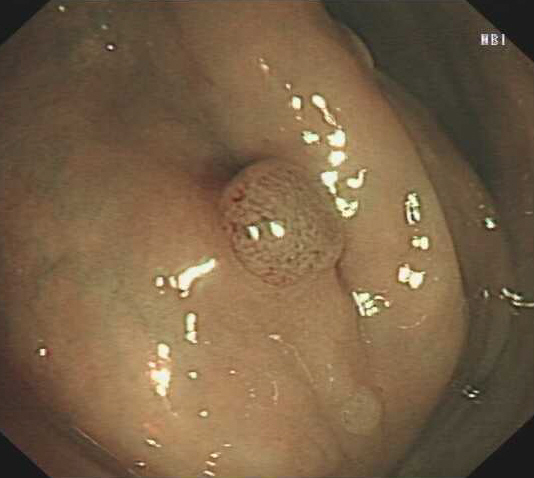adenoma: (214, 154, 345, 289), (336, 386, 384, 436)
